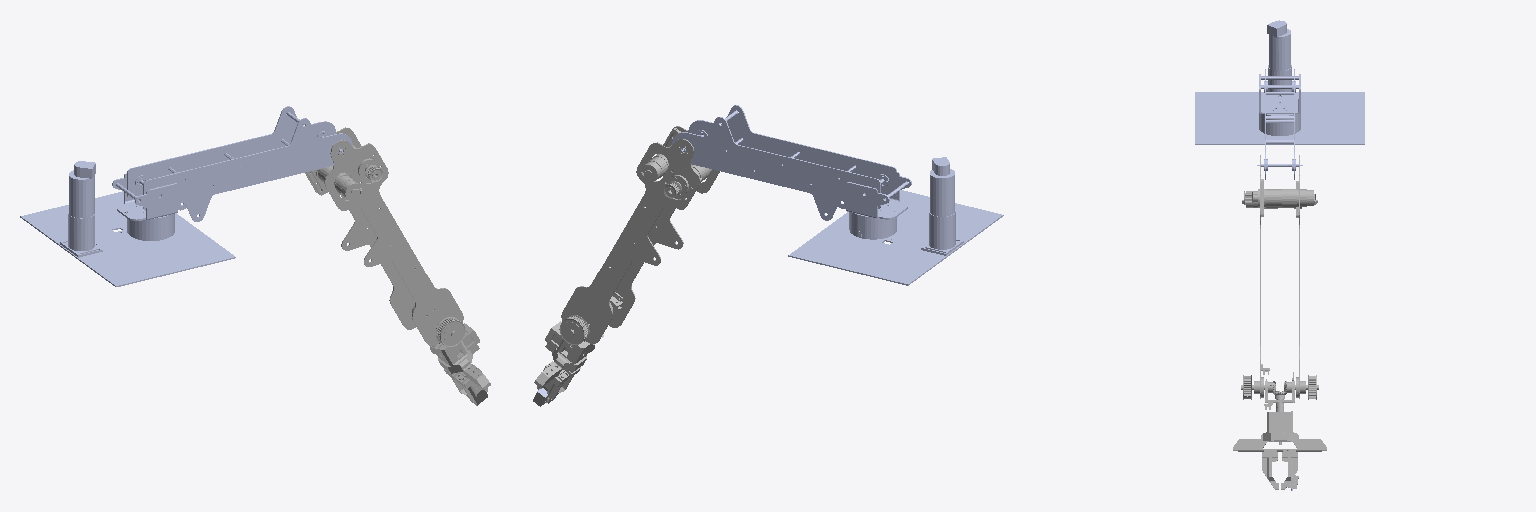
The robot description file, URDF, robot "zero_arm_urdf":
<?xml version="1.0" encoding="utf-8"?>
<!-- This URDF was automatically created by SolidWorks to URDF Exporter! Originally created by [author] ([email redacted]) 
     Commit Version: 1.6.0-4-g7f85cfe  Build Version: 1.6.7995.38578
     For more information, please see http://wiki.ros.org/sw_urdf_exporter -->
<robot
  name="zero_arm_urdf">
  <link
    name="base_link">
    <inertial>
      <origin
        xyz="0.0658257284419014 -0.000207866022929881 0.0479622408614532"
        rpy="0 0 0" />
      <mass
        value="0.971772873740423" />
      <inertia
        ixx="0.006084943050822"
        ixy="1.41809852052385E-06"
        ixz="-1.31018488364514E-05"
        iyy="0.00378269979771676"
        iyz="1.2979509131575E-05"
        izz="0.00748069186848877" />
    </inertial>
    <visual>
      <origin
        xyz="0 0 0"
        rpy="0 0 0" />
      <geometry>
        <mesh
          filename="package://zero_arm_urdf/meshes/base_link.STL" />
      </geometry>
      <material
        name="">
        <color
          rgba="0.792156862745098 0.819607843137255 0.933333333333333 1" />
      </material>
    </visual>
    <collision>
      <origin
        xyz="0 0 0"
        rpy="0 0 0" />
      <geometry>
        <mesh
          filename="package://zero_arm_urdf/meshes/base_link.STL" />
      </geometry>
    </collision>
  </link>
  <link
    name="link1">
    <inertial>
      <origin
        xyz="-0.00397025673957066 -0.0425742314422386 1.37090863266964E-06"
        rpy="0 0 0" />
      <mass
        value="0.234821575011378" />
      <inertia
        ixx="0.000247746565184449"
        ixy="2.82744814330891E-06"
        ixz="2.61132776099762E-09"
        iyy="0.000244853538800398"
        iyz="-1.3131238195509E-08"
        izz="0.000184528194453294" />
    </inertial>
    <visual>
      <origin
        xyz="0 0 0"
        rpy="0 0 0" />
      <geometry>
        <mesh
          filename="package://zero_arm_urdf/meshes/link1.STL" />
      </geometry>
      <material
        name="">
        <color
          rgba="0.792156862745098 0.819607843137255 0.933333333333333 1" />
      </material>
    </visual>
    <collision>
      <origin
        xyz="0 0 0"
        rpy="0 0 0" />
      <geometry>
        <mesh
          filename="package://zero_arm_urdf/meshes/link1.STL" />
      </geometry>
    </collision>
  </link>
  <joint
    name="joint1"
    type="revolute">
    <origin
      xyz="0.16 0 0"
      rpy="-1.5708 0 0" />
    <parent
      link="base_link" />
    <child
      link="link1" />
    <axis
      xyz="0 -1 0" />
    <limit
      lower="-3.0"
      upper="3.0"
      effort="200"
      velocity="1" />
  </joint>
  <link
    name="link2">
    <inertial>
      <origin
        xyz="0.220334053460024 0.000872969026101303 -2.77555756156289E-17"
        rpy="0 0 0" />
      <mass
        value="0.261954653215328" />
      <inertia
        ixx="0.000188707236359268"
        ixy="-0.000200063248022766"
        ixz="2.26000765066799E-19"
        iyy="0.00464878606453287"
        iyz="-1.58314299122513E-20"
        izz="0.00481819737388019" />
    </inertial>
    <visual>
      <origin
        xyz="0 0 0"
        rpy="0 0 0" />
      <geometry>
        <mesh
          filename="package://zero_arm_urdf/meshes/link2.STL" />
      </geometry>
      <material
        name="">
        <color
          rgba="0.792156862745098 0.819607843137255 0.933333333333333 1" />
      </material>
    </visual>
    <collision>
      <origin
        xyz="0 0 0"
        rpy="0 0 0" />
      <geometry>
        <mesh
          filename="package://zero_arm_urdf/meshes/link2.STL" />
      </geometry>
    </collision>
  </link>
  <joint
    name="joint2"
    type="revolute">
    <origin
      xyz="-0.006 -0.1055 0"
      rpy="3.1416 0 0" />
    <parent
      link="link1" />
    <child
      link="link2" />
    <axis
      xyz="0 0 1" />
    <limit
      lower="-0.1"
      upper="1.43"
      effort="200"
      velocity="1" />
  </joint>
  <link
    name="link3">
    <inertial>
      <origin
        xyz="0.30483853766749 -0.00144503350835333 -0.0164831721923893"
        rpy="0 0 0" />
      <mass
        value="0.488417816473279" />
      <inertia
        ixx="0.000321059705121818"
        ixy="-4.27633039477105E-06"
        ixz="4.86912251323769E-08"
        iyy="0.00673693203480663"
        iyz="-2.01359163353348E-08"
        izz="0.00693397263925434" />
    </inertial>
    <visual>
      <origin
        xyz="0 0 0"
        rpy="0 0 0" />
      <geometry>
        <mesh
          filename="package://zero_arm_urdf/meshes/link3.STL" />
      </geometry>
      <material
        name="">
        <color
          rgba="0.752941176470588 0.752941176470588 0.752941176470588 1" />
      </material>
    </visual>
    <collision>
      <origin
        xyz="0 0 0"
        rpy="0 0 0" />
      <geometry>
        <mesh
          filename="package://zero_arm_urdf/meshes/link3.STL" />
      </geometry>
    </collision>
  </link>
  <joint
    name="joint3"
    type="revolute">
    <origin
      xyz="0.438 0 0"
      rpy="0 0 0" />
    <parent
      link="link2" />
    <child
      link="link3" />
    <axis
      xyz="0 0 1" />
    <limit
      lower="-1.66"
      upper="-0.5"
      effort="200"
      velocity="1" />
  </joint>
  <link
    name="link4">
    <inertial>
      <origin
        xyz="0.00495433196508244 -6.20216963115386E-05 5.77115050062471E-05"
        rpy="0 0 0" />
      <mass
        value="0.445256597701024" />
      <inertia
        ixx="0.000127440338159421"
        ixy="2.55511769101157E-08"
        ixz="2.9920672788021E-08"
        iyy="0.000125423181252453"
        iyz="2.83533341223222E-08"
        izz="7.59794261694308E-05" />
    </inertial>
    <visual>
      <origin
        xyz="0 0 0"
        rpy="0 0 0" />
      <geometry>
        <mesh
          filename="package://zero_arm_urdf/meshes/link4.STL" />
      </geometry>
      <material
        name="">
        <color
          rgba="0.752941176470588 0.752941176470588 0.752941176470588 1" />
      </material>
    </visual>
    <collision>
      <origin
        xyz="0 0 0"
        rpy="0 0 0" />
      <geometry>
        <mesh
          filename="package://zero_arm_urdf/meshes/link4.STL" />
      </geometry>
    </collision>
  </link>
  <joint
    name="joint4"
    type="revolute">
    <origin
      xyz="0.525 0 0"
      rpy="0 0 0" />
    <parent
      link="link3" />
    <child
      link="link4" />
    <axis
      xyz="0 0 1" />
    <limit
      lower="-2"
      upper="2"
      effort="200"
      velocity="1" />
  </joint>
  <link
    name="link5">
    <inertial>
      <origin
        xyz="0.000245573438265645 0.010340330297018 0.0690052158718446"
        rpy="0 0 0" />
      <mass
        value="0.352114397652173" />
      <inertia
        ixx="0.000264513851496235"
        ixy="2.31737364753378E-07"
        ixz="-1.05215700699188E-06"
        iyy="0.000508317617337495"
        iyz="8.7496383808142E-06"
        izz="0.000490997704862073" />
    </inertial>
    <visual>
      <origin
        xyz="0 0 0"
        rpy="0 0 0" />
      <geometry>
        <mesh
          filename="package://zero_arm_urdf/meshes/link5.STL" />
      </geometry>
      <material
        name="">
        <color
          rgba="0.752941176470588 0.752941176470588 0.752941176470588 1" />
      </material>
    </visual>
    <collision>
      <origin
        xyz="0 0 0"
        rpy="0 0 0" />
      <geometry>
        <mesh
          filename="package://zero_arm_urdf/meshes/link5.STL" />
      </geometry>
    </collision>
  </link>
  <joint
    name="joint5"
    type="revolute">
    <origin
      xyz="0.0361 0 0"
      rpy="0 1.5708 0" />
    <parent
      link="link4" />
    <child
      link="link5" />
    <axis
      xyz="0 0 1" />
    <limit
      lower="-500.0"
      upper="500.0"
      effort="200"
      velocity="1" />
  </joint>
  <link
    name="right_finger">
    <inertial>
      <origin
        xyz="0.0215937628980724 0.000202849593494848 -0.0624186677218008"
        rpy="0 0 0" />
      <mass
        value="0.053241038188701" />
      <inertia
        ixx="3.33488752067218E-05"
        ixy="-1.8444368483651E-11"
        ixz="3.45813423510804E-06"
        iyy="3.16050413019731E-05"
        iyz="1.1407438006372E-08"
        izz="1.32352703654019E-05" />
    </inertial>
    <visual>
      <origin
        xyz="0 0 0"
        rpy="0 0 0" />
      <geometry>
        <mesh
          filename="package://zero_arm_urdf/meshes/right_finger.STL" />
      </geometry>
      <material
        name="">
        <color
          rgba="0.752941176470588 0.752941176470588 0.752941176470588 1" />
      </material>
    </visual>
    <collision>
      <origin
        xyz="0 0 0"
        rpy="0 0 0" />
      <geometry>
        <mesh
          filename="package://zero_arm_urdf/meshes/right_finger.STL" />
      </geometry>
    </collision>
  </link>
  <joint
    name="finger_joint1"
    type="prismatic">
    <origin
      xyz="0.002 0.00025625 0.20564"
      rpy="0 0 0" />
    <parent
      link="link5" />
    <child
      link="right_finger" />
    <axis
      xyz="1 0 0" />
    <limit
      lower="0"
      upper="0.0564"
      effort="100"
      velocity="3" />
  </joint>
  <link
    name="solenoid">
    <inertial>
      <origin
        xyz="2.4980018054066E-16 -2.77555756156289E-17 -0.0223514106905571"
        rpy="0 0 0" />
      <mass
        value="0.0112479645943005" />
      <inertia
        ixx="1.29768403052871E-06"
        ixy="1.03278892433719E-23"
        ixz="-4.16899028726726E-22"
        iyy="1.22700403052871E-06"
        iyz="5.4388397497731E-22"
        izz="6.734959291886E-07" />
    </inertial>
    <visual>
      <origin
        xyz="0 0 0"
        rpy="0 0 0" />
      <geometry>
        <mesh
          filename="package://zero_arm_urdf/meshes/solenoid.STL" />
      </geometry>
      <material
        name="">
        <color
          rgba="0.792156862745098 0.819607843137255 0.933333333333333 1" />
      </material>
    </visual>
    <collision>
      <origin
        xyz="0 0 0"
        rpy="0 0 0" />
      <geometry>
        <mesh
          filename="package://zero_arm_urdf/meshes/solenoid.STL" />
      </geometry>
    </collision>
  </link>
  <joint
    name="solenoid_joint"
    type="fixed">
    <origin
      xyz="0.026236 0 0.0039392"
      rpy="0 0.17453 3.1416" />
    <parent
      link="right_finger" />
    <child
      link="solenoid" />
    <axis
      xyz="0 0 0" />
  </joint>
  <link
    name="left_finger">
    <inertial>
      <origin
        xyz="0.0220125847239852 0.000188722118320002 -0.0621351163379389"
        rpy="0 0 0" />
      <mass
        value="0.0557852527831897" />
      <inertia
        ixx="3.18177178076056E-05"
        ixy="8.17133668202917E-21"
        ixz="3.57080613975233E-06"
        iyy="3.02026365485314E-05"
        iyz="2.09710323370774E-08"
        izz="1.33690917758008E-05" />
    </inertial>
    <visual>
      <origin
        xyz="0 0 0"
        rpy="0 0 0" />
      <geometry>
        <mesh
          filename="package://zero_arm_urdf/meshes/left_finger.STL" />
      </geometry>
      <material
        name="">
        <color
          rgba="0.752941176470588 0.752941176470588 0.752941176470588 1" />
      </material>
    </visual>
    <collision>
      <origin
        xyz="0 0 0"
        rpy="0 0 0" />
      <geometry>
        <mesh
          filename="package://zero_arm_urdf/meshes/left_finger.STL" />
      </geometry>
    </collision>
  </link>
  <joint
    name="finger_joint2"
    type="prismatic">
    <origin
      xyz="-0.002 0.00025625 0.20564"
      rpy="0 0 -3.1416" />
    <parent
      link="link5" />
    <child
      link="left_finger" />
    <axis
      xyz="1 0 0" />
    <limit
      lower="0"
      upper="0"
      effort="0"
      velocity="0" />
    <mimic
      joint="finger_joint1"
      multiplier="1"
      offset="0" />
  </joint>
</robot>

--- Facts derived from the render (not from the file) ---
Views: 3 orthographic renders of the robot side by side, from view 1: azimuth 30°, elevation 25°; view 2: azimuth 150°, elevation 25°; view 3: azimuth 270°, elevation 25°.
Model zero_arm_urdf with 9 links and 8 joints (5 revolute, 2 prismatic, 1 fixed), rooted at base_link, posed all joints at 0 but 1 set to mid-range because 0 is outside their limits (joint3 = -1.08).
Visible links, largest first — view 1: base_link, link3, link2, link1, link5, link4; view 2: base_link, link3, link2, link1, link5, link4, right_finger; view 3: base_link, link3, link5, link4, link1, link2.
Link boxes in pixels (x1,y1,x2,y2): base_link: (20, 161, 235, 286); link3: (305, 127, 463, 345); link2: (127, 106, 352, 221); link1: (112, 173, 177, 220); link5: (430, 323, 490, 389); link4: (434, 317, 465, 349); base_link: (788, 157, 1003, 285); link3: (561, 126, 719, 343); link2: (672, 105, 896, 220); link1: (846, 172, 911, 219); link5: (534, 321, 594, 387); link4: (560, 315, 603, 344); right_finger: (533, 361, 569, 406); base_link: (1195, 20, 1364, 144); link3: (1242, 155, 1317, 398); link5: (1233, 402, 1326, 451); link4: (1241, 372, 1318, 409); link1: (1259, 74, 1300, 113); link2: (1257, 69, 1302, 179).
Size in the robot's own frame: 1.01 by 0.4 by 0.7737 metres.
9 mesh visuals loaded from 9 distinct referenced files (9 binary STL).